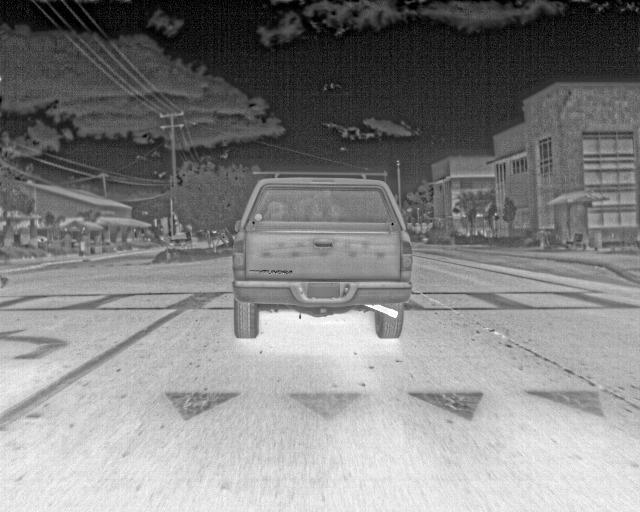car: (231, 174, 414, 339)
